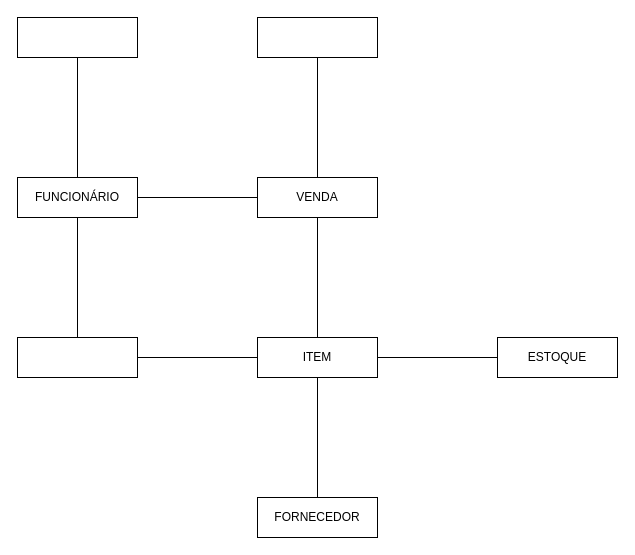
The diagram is 635 pixels wide and 555 high, and some of its shapes have lost their labels. Each missing label, with the box of its shape:
CARGOS: (16, 16, 138, 58)
CLIENTE: (256, 16, 378, 58)
COMPRA: (16, 336, 138, 378)
